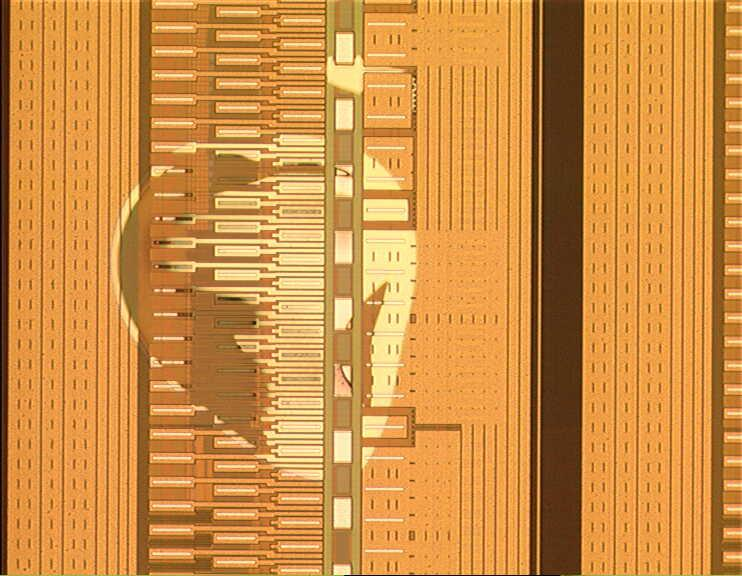BLOCK ETCH: (105, 30, 428, 498)
